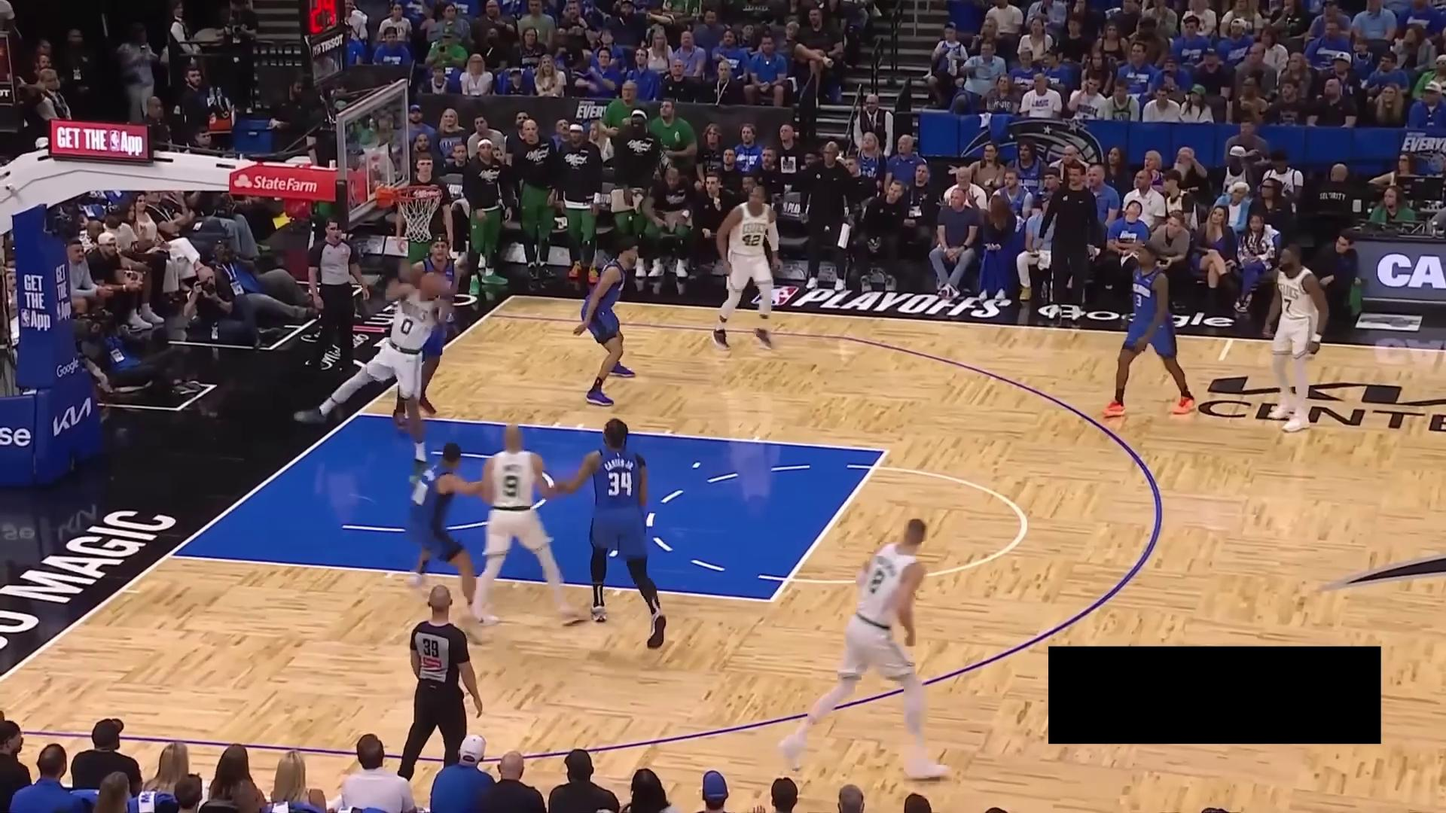ball: (417, 272, 447, 300)
number: (604, 469, 635, 497), (501, 472, 521, 498), (869, 568, 886, 595), (742, 233, 761, 247), (399, 318, 413, 336), (1283, 298, 1292, 312), (1136, 294, 1143, 308)
player: (779, 513, 954, 784), (552, 410, 670, 650), (466, 421, 588, 634), (403, 437, 500, 630), (1100, 237, 1199, 421), (389, 235, 471, 434), (708, 177, 785, 357), (1260, 240, 1329, 434), (573, 234, 642, 410)
player-in-possession: (292, 265, 455, 480)
referee: (392, 577, 484, 782), (303, 212, 371, 376)
rim: (393, 184, 446, 203)
